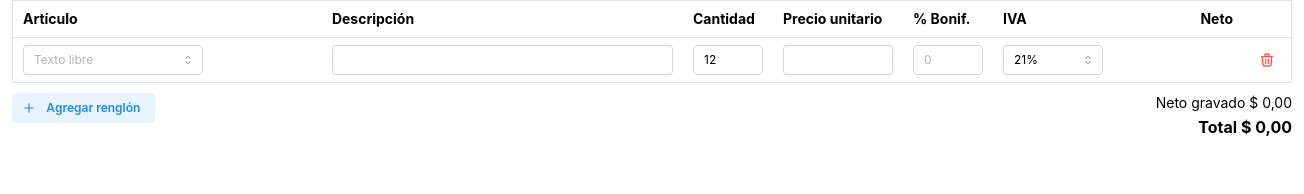
descuentos por cantidad (web, E56) › revisión final › precio y bonificación que llegan juntos: no se pisan
Click the field named "Artículo". click: [113, 60]
box: [23,45,203,75]
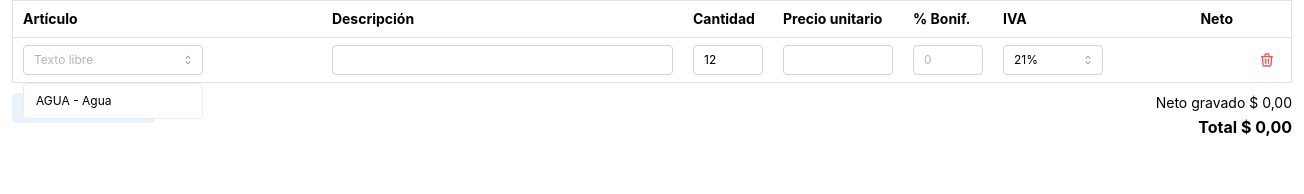
Click the option "AGUA - Agua". click: [74, 100]
box: [36,93,112,108]
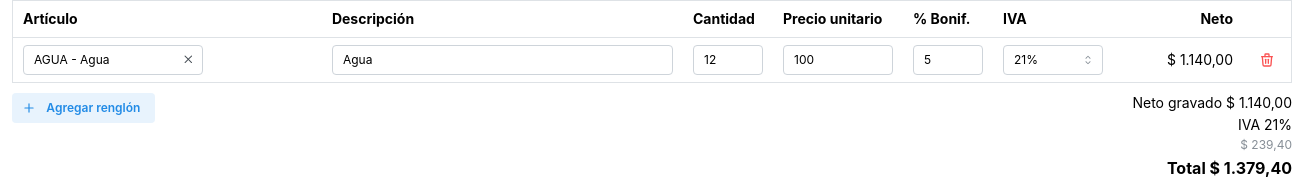
Check: the field named "Precio unitario" holds "100", box [783,45,893,75]
Check: the field named "Bonificación %" holds "5", box [913,45,983,75]
